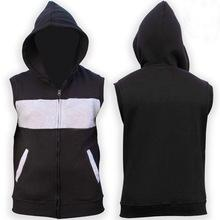C_vest: (7, 1, 115, 218), (113, 1, 214, 218)
